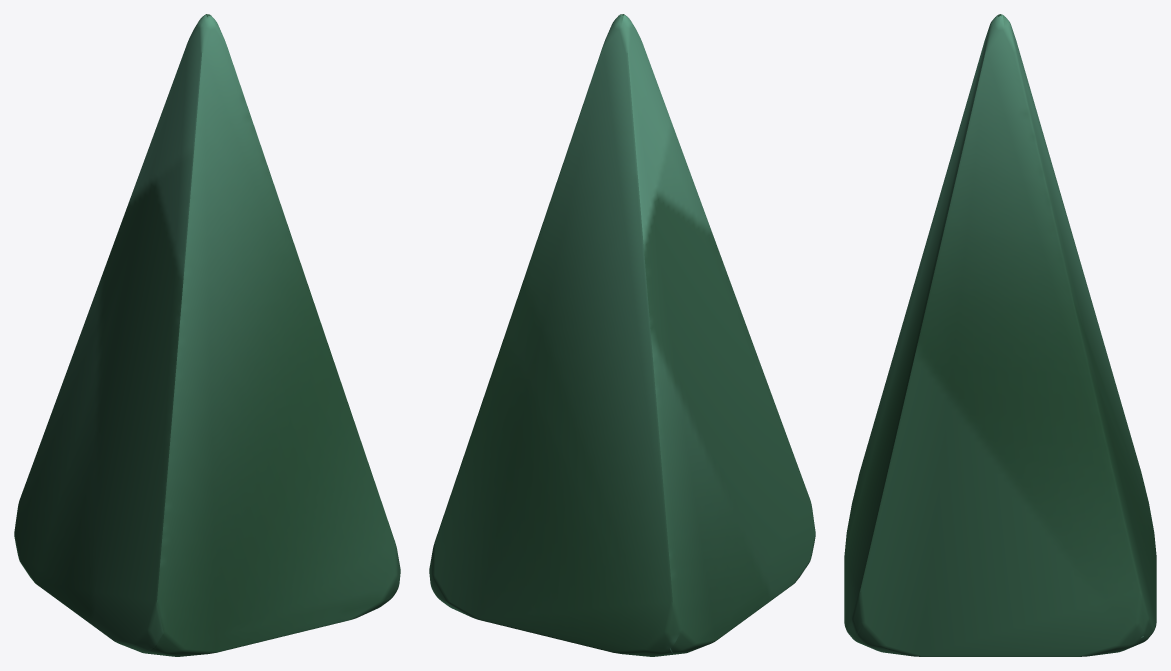
File: tree_default.glb
The picture shows the model from 3 angles, left to right: view 1: azimuth 30°, elevation 25°; view 2: azimuth 150°, elevation 25°; view 3: azimuth 270°, elevation 25°; orthographic projection.
Parts seen in each view (by area): view 1: tree_default; view 2: tree_default; view 3: tree_default.
Part boxes in pixels (box(x1,y1,x2,y2)): tree_default: box(14, 14, 400, 656); tree_default: box(429, 14, 815, 656); tree_default: box(844, 14, 1156, 656).
Bounding box in the file's own units: 0.1477 × 0.3015 × 0.1477.
Materials: 1 (1 with a texture image).
